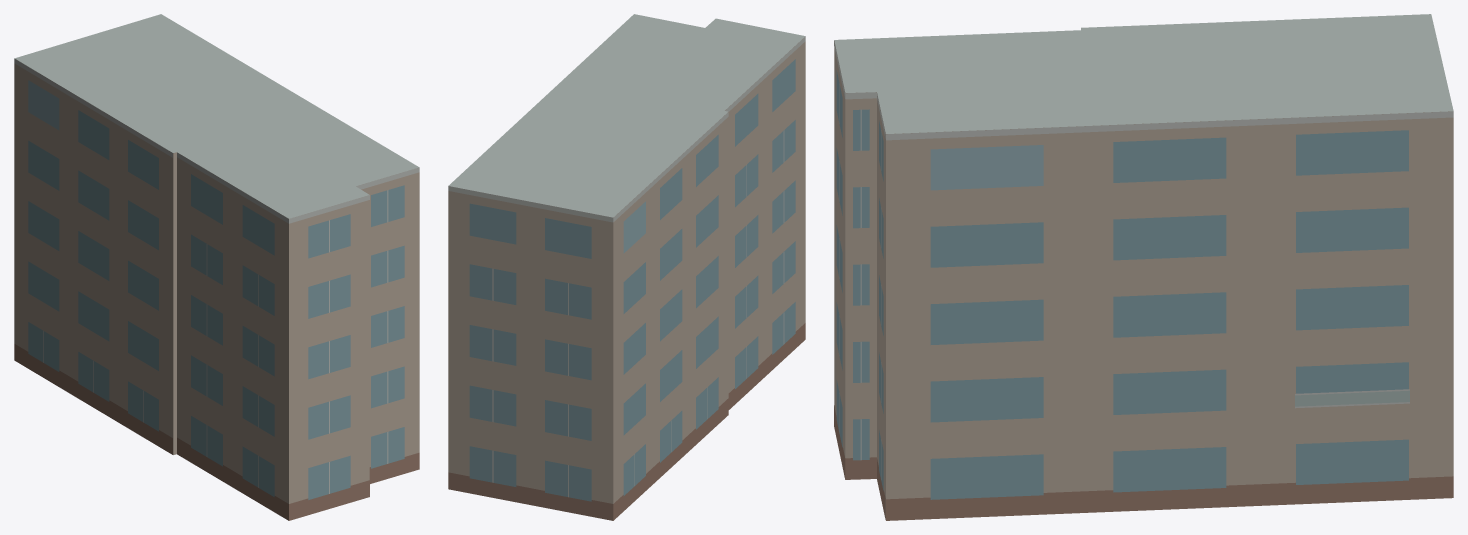
File: survey-upis-32570882.glb
3 renders of one model, left to right at view 1: azimuth 30°, elevation 25°; view 2: azimuth 150°, elevation 25°; view 3: azimuth 270°, elevation 25°, orthographic. The views are drawn at different scales.
Parts seen in each view (by area): view 1: survey-upis-32570882.tmp; view 2: survey-upis-32570882.tmp; view 3: survey-upis-32570882.tmp.
Part boxes in pixels (<box>): survey-upis-32570882.tmp: <box>14,14,419,520</box>; survey-upis-32570882.tmp: <box>448,14,805,520</box>; survey-upis-32570882.tmp: <box>834,14,1453,520</box>.
Size of the model in its own units: 10.03 by 15.05 by 21.86.
